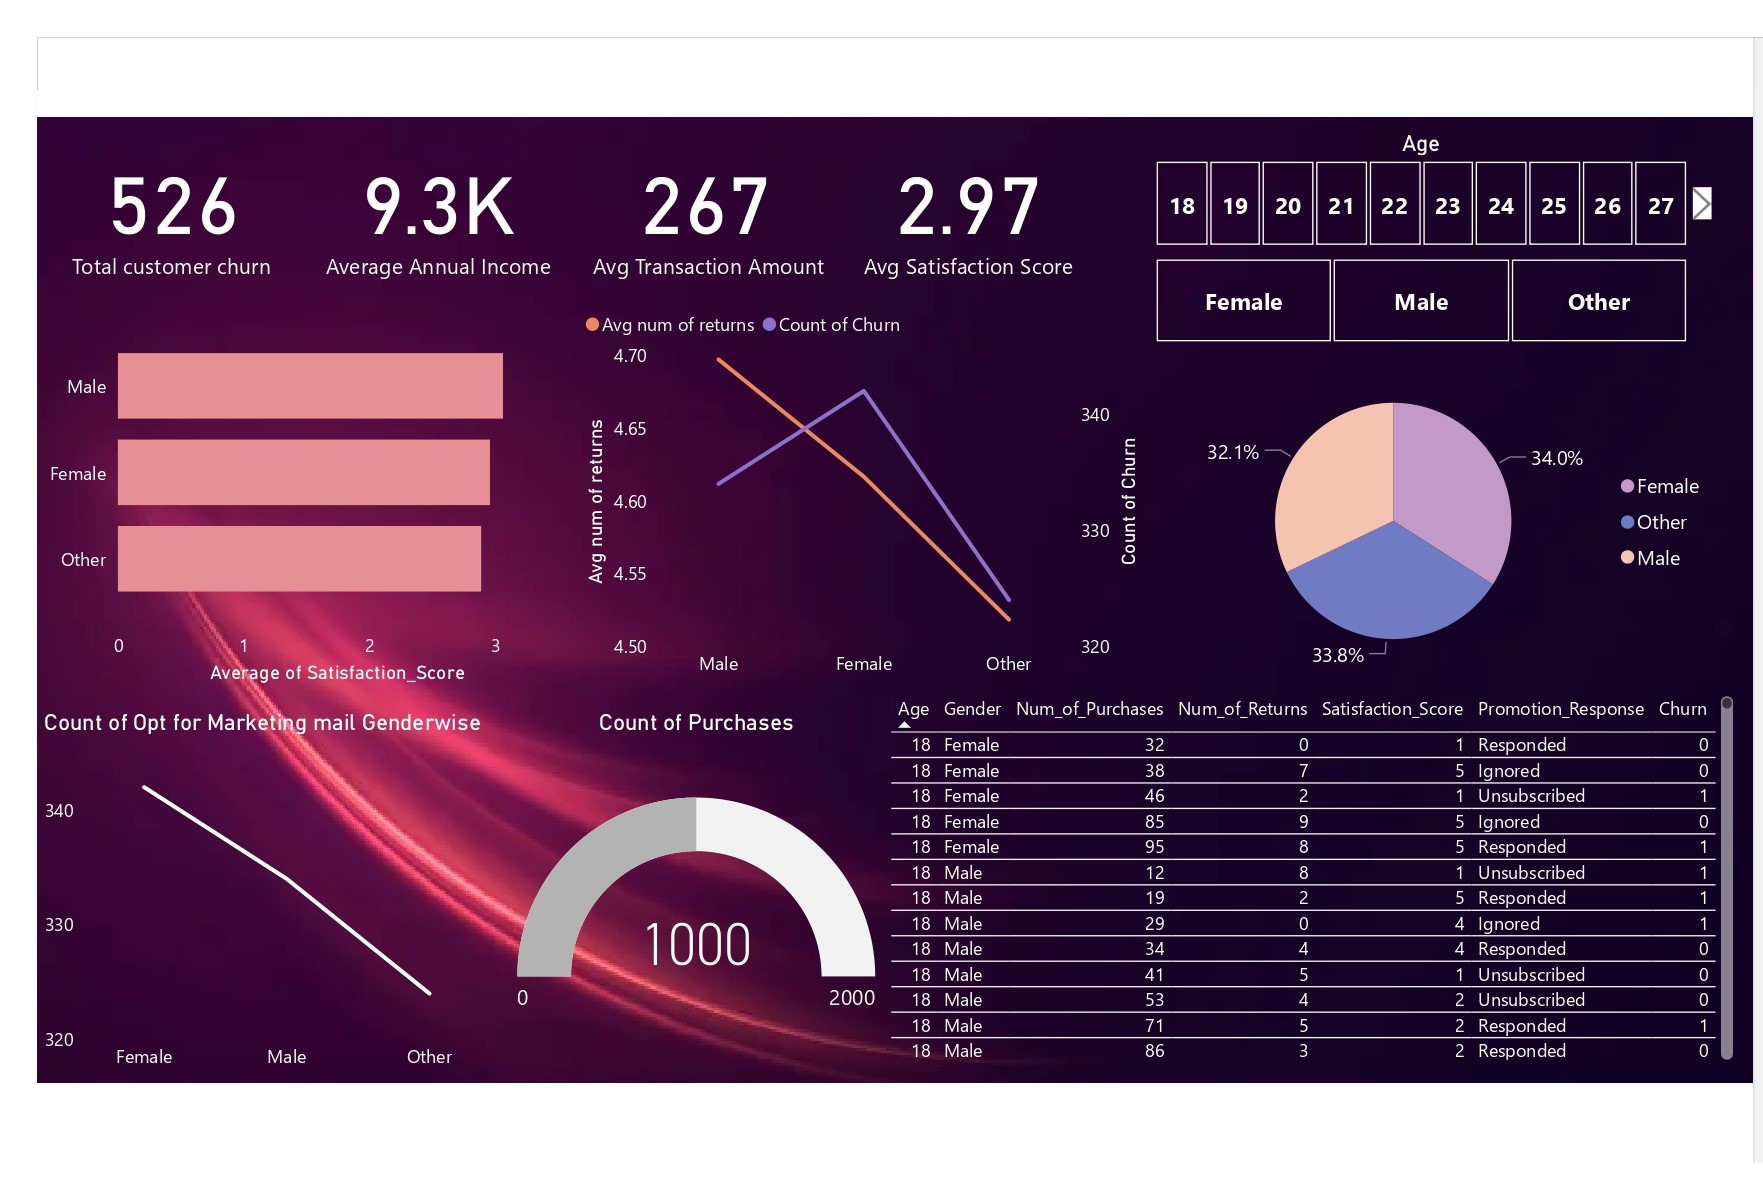

Layout of this report page (visuals, bound fields, positions):
{"tool":"powerbi","page":{"name":"Page 1","canvas":[1280,720],"ordinal":0},"visuals":[{"type":"lineChart","title":"Count of Opt for Marketing mail Genderwise","fields":{"Category":["online_retail_customer_churn.Gender"],"Y":["CountNonNull(online_retail_customer_churn.Opt for Marketing mail)"]},"box":[0,441.3,339.8,278.7],"z":0},{"type":"tableEx","fields":{"Values":["online_retail_customer_churn.Age","online_retail_customer_churn.Gender","online_retail_customer_churn.Num_of_Purchases","online_retail_customer_churn.Num_of_Returns","online_retail_customer_churn.Satisfaction_Score","online_retail_customer_churn.Promotion_Response","online_retail_customer_churn.Churn"]},"box":[630.8,426.9,639.2,281],"z":1000},{"type":"clusteredBarChart","title":"Average Satisfaction_Score by Gender","fields":{"Category":["online_retail_customer_churn.Gender"],"Y":["Avg(online_retail_customer_churn.Satisfaction_Score)"]},"box":[0,137.1,396.8,290],"z":2000},{"type":"card","title":"Number of customer Churn","fields":{"Values":["Sum(online_retail_customer_churn.Churn)"]},"box":[0,8.6,200.5,119.8],"z":3000},{"type":"card","fields":{"Values":["Avg(online_retail_customer_churn.Annual_Income)"]},"box":[200.5,4.3,196.2,128.4],"z":4000},{"type":"pieChart","title":"Total Churn Gender wise","fields":{"Category":["online_retail_customer_churn.Gender"],"Y":["Sum(online_retail_customer_churn.Churn)"]},"box":[838.2,174.6,415.5,252.5],"z":5000},{"type":"card","fields":{"Values":["Avg(online_retail_customer_churn.Average_Transaction_Amount)"]},"box":[402.5,0,191.9,137.1],"z":6000},{"type":"card","fields":{"Values":["Avg(online_retail_customer_churn.Satisfaction_Score)"]},"box":[594.4,8.7,200.5,119.7],"z":7000},{"type":"lineChart","fields":{"Category":["online_retail_customer_churn.Gender"],"Y":["Avg(online_retail_customer_churn.Num_of_Returns)"],"Y2":["CountNonNull(online_retail_customer_churn.Churn)"]},"box":[402.5,134.2,424.2,292.9],"z":8000},{"type":"slicer","title":"Age","fields":{"Values":["online_retail_customer_churn.Age"]},"box":[810.8,8.7,442.9,90.9],"z":9000},{"type":"gauge","fields":{"Y":["CountNonNull(online_retail_customer_churn.Num_of_Purchases)"]},"box":[353.5,441.5,277,278.5],"z":9001},{"type":"slicer","fields":{"Values":["online_retail_customer_churn.Gender"]},"box":[810.8,101,442.9,70.7],"z":9002}]}

Visuals, with their boxes on the page's 1280x720 design canvas (x1, y1, x2, y2). These are canvas units, not pixel positions in the 1763x1200 screenshot, which may show the page scaled, cropped or inside an application window:
"Count of Opt for Marketing mail Genderwise" lineChart: detection(0, 441, 340, 720)
tableEx - online_retail_customer_churn.Age x online_retail_customer_churn.Gender: detection(631, 427, 1270, 708)
"Average Satisfaction_Score by Gender" clusteredBarChart: detection(0, 137, 397, 427)
"Number of customer Churn" card: detection(0, 9, 200, 128)
card - Avg(online_retail_customer_churn.Annual_Income): detection(200, 4, 397, 133)
"Total Churn Gender wise" pieChart: detection(838, 175, 1254, 427)
card - Avg(online_retail_customer_churn.Average_Transaction_Amount): detection(402, 0, 594, 137)
card - Avg(online_retail_customer_churn.Satisfaction_Score): detection(594, 9, 795, 128)
lineChart - online_retail_customer_churn.Gender x Avg(online_retail_customer_churn.Num_of_Returns): detection(402, 134, 827, 427)
"Age" slicer: detection(811, 9, 1254, 100)
gauge - CountNonNull(online_retail_customer_churn.Num_of_Purchases): detection(354, 442, 630, 720)
slicer - online_retail_customer_churn.Gender: detection(811, 101, 1254, 172)
